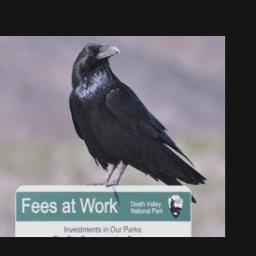Crow: (68, 42, 207, 205)
